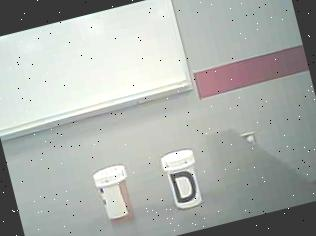Bottle D: (157, 143, 213, 217)
Bottle F: (85, 160, 141, 232)
